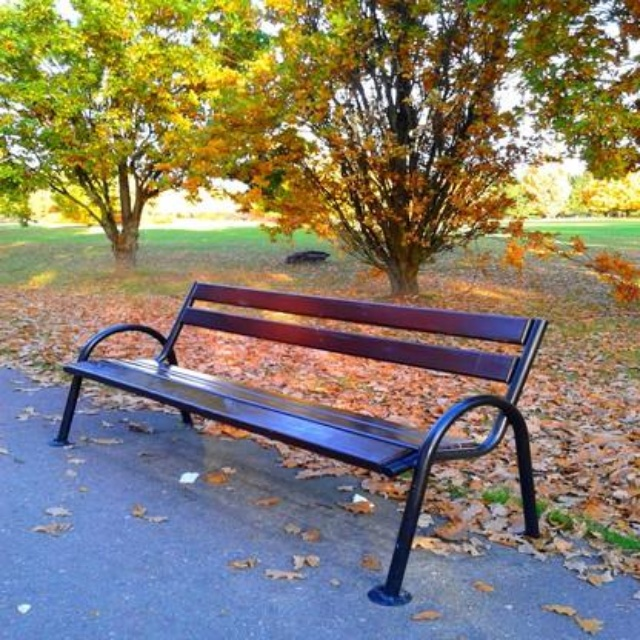obstacle: (45, 258, 562, 606)
